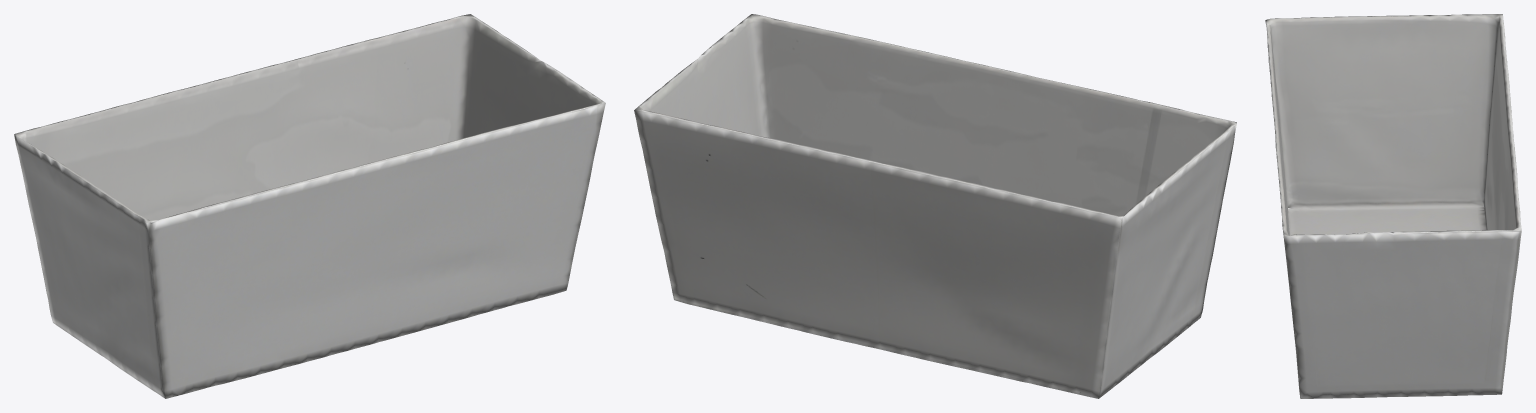
File: Bath.glb
The picture shows the model from 3 angles, left to right: view 1: azimuth 30°, elevation 25°; view 2: azimuth 150°, elevation 25°; view 3: azimuth 270°, elevation 25°; orthographic projection. The views are drawn at different scales.
Size of the model in its own units: 2.01 by 0.7677 by 0.9844.
Materials: 1 (1 with a texture image).
